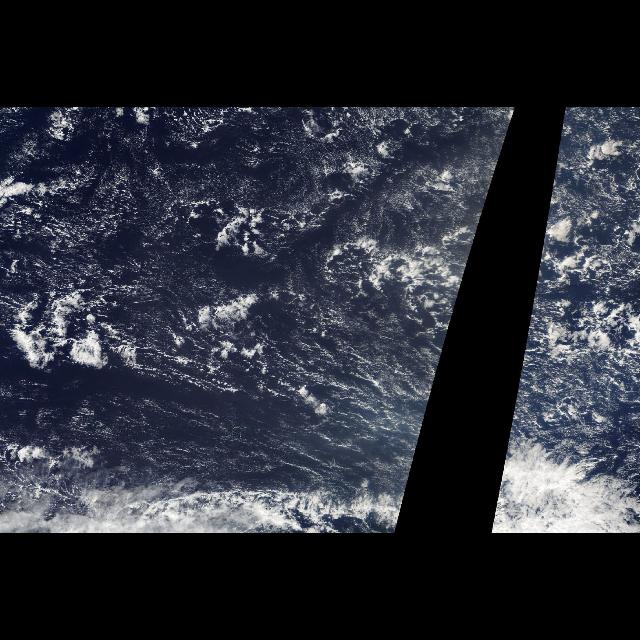Gravel: (20, 148, 186, 300)
Sugar: (0, 114, 514, 512), (507, 346, 639, 440), (544, 114, 640, 238)
